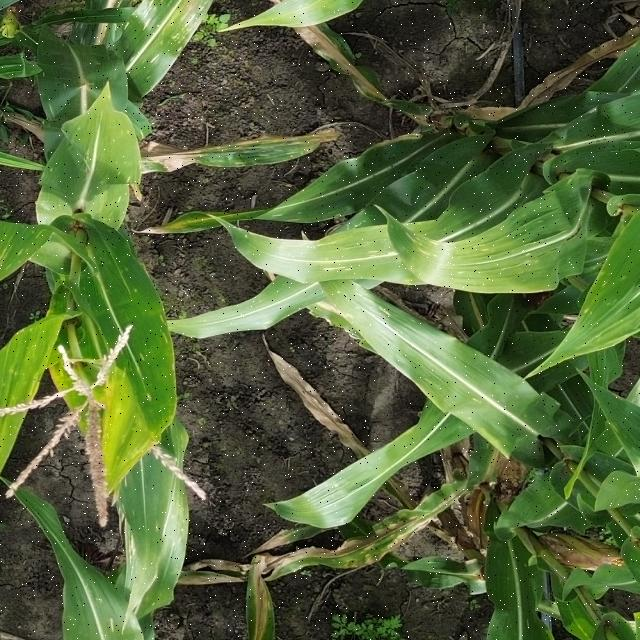gray-leaf-spot: (68, 0, 202, 90), (284, 223, 424, 286), (105, 495, 187, 596)
northern-leaf-blight: (226, 487, 478, 585), (85, 112, 352, 186), (291, 22, 414, 121), (194, 542, 294, 640)
southern-leaf-blight: (64, 257, 192, 423), (412, 217, 572, 299), (34, 129, 141, 227), (551, 261, 639, 363), (0, 317, 66, 420), (0, 205, 64, 282)
